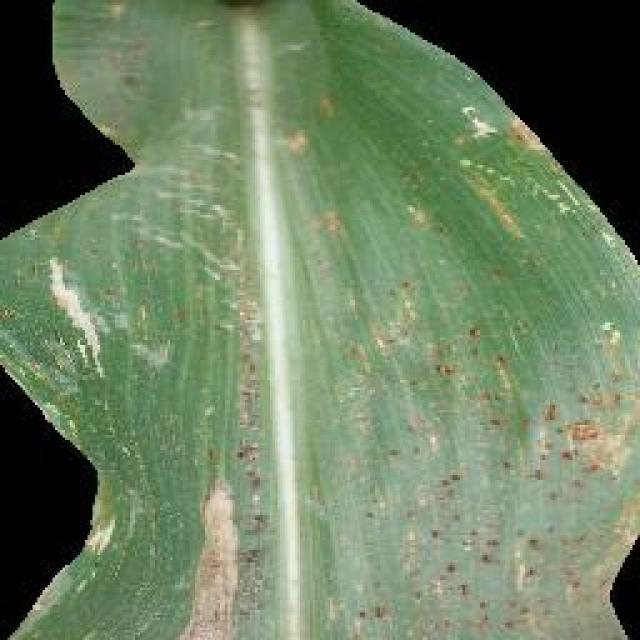Corn Common Rust: (97, 69, 628, 628)
